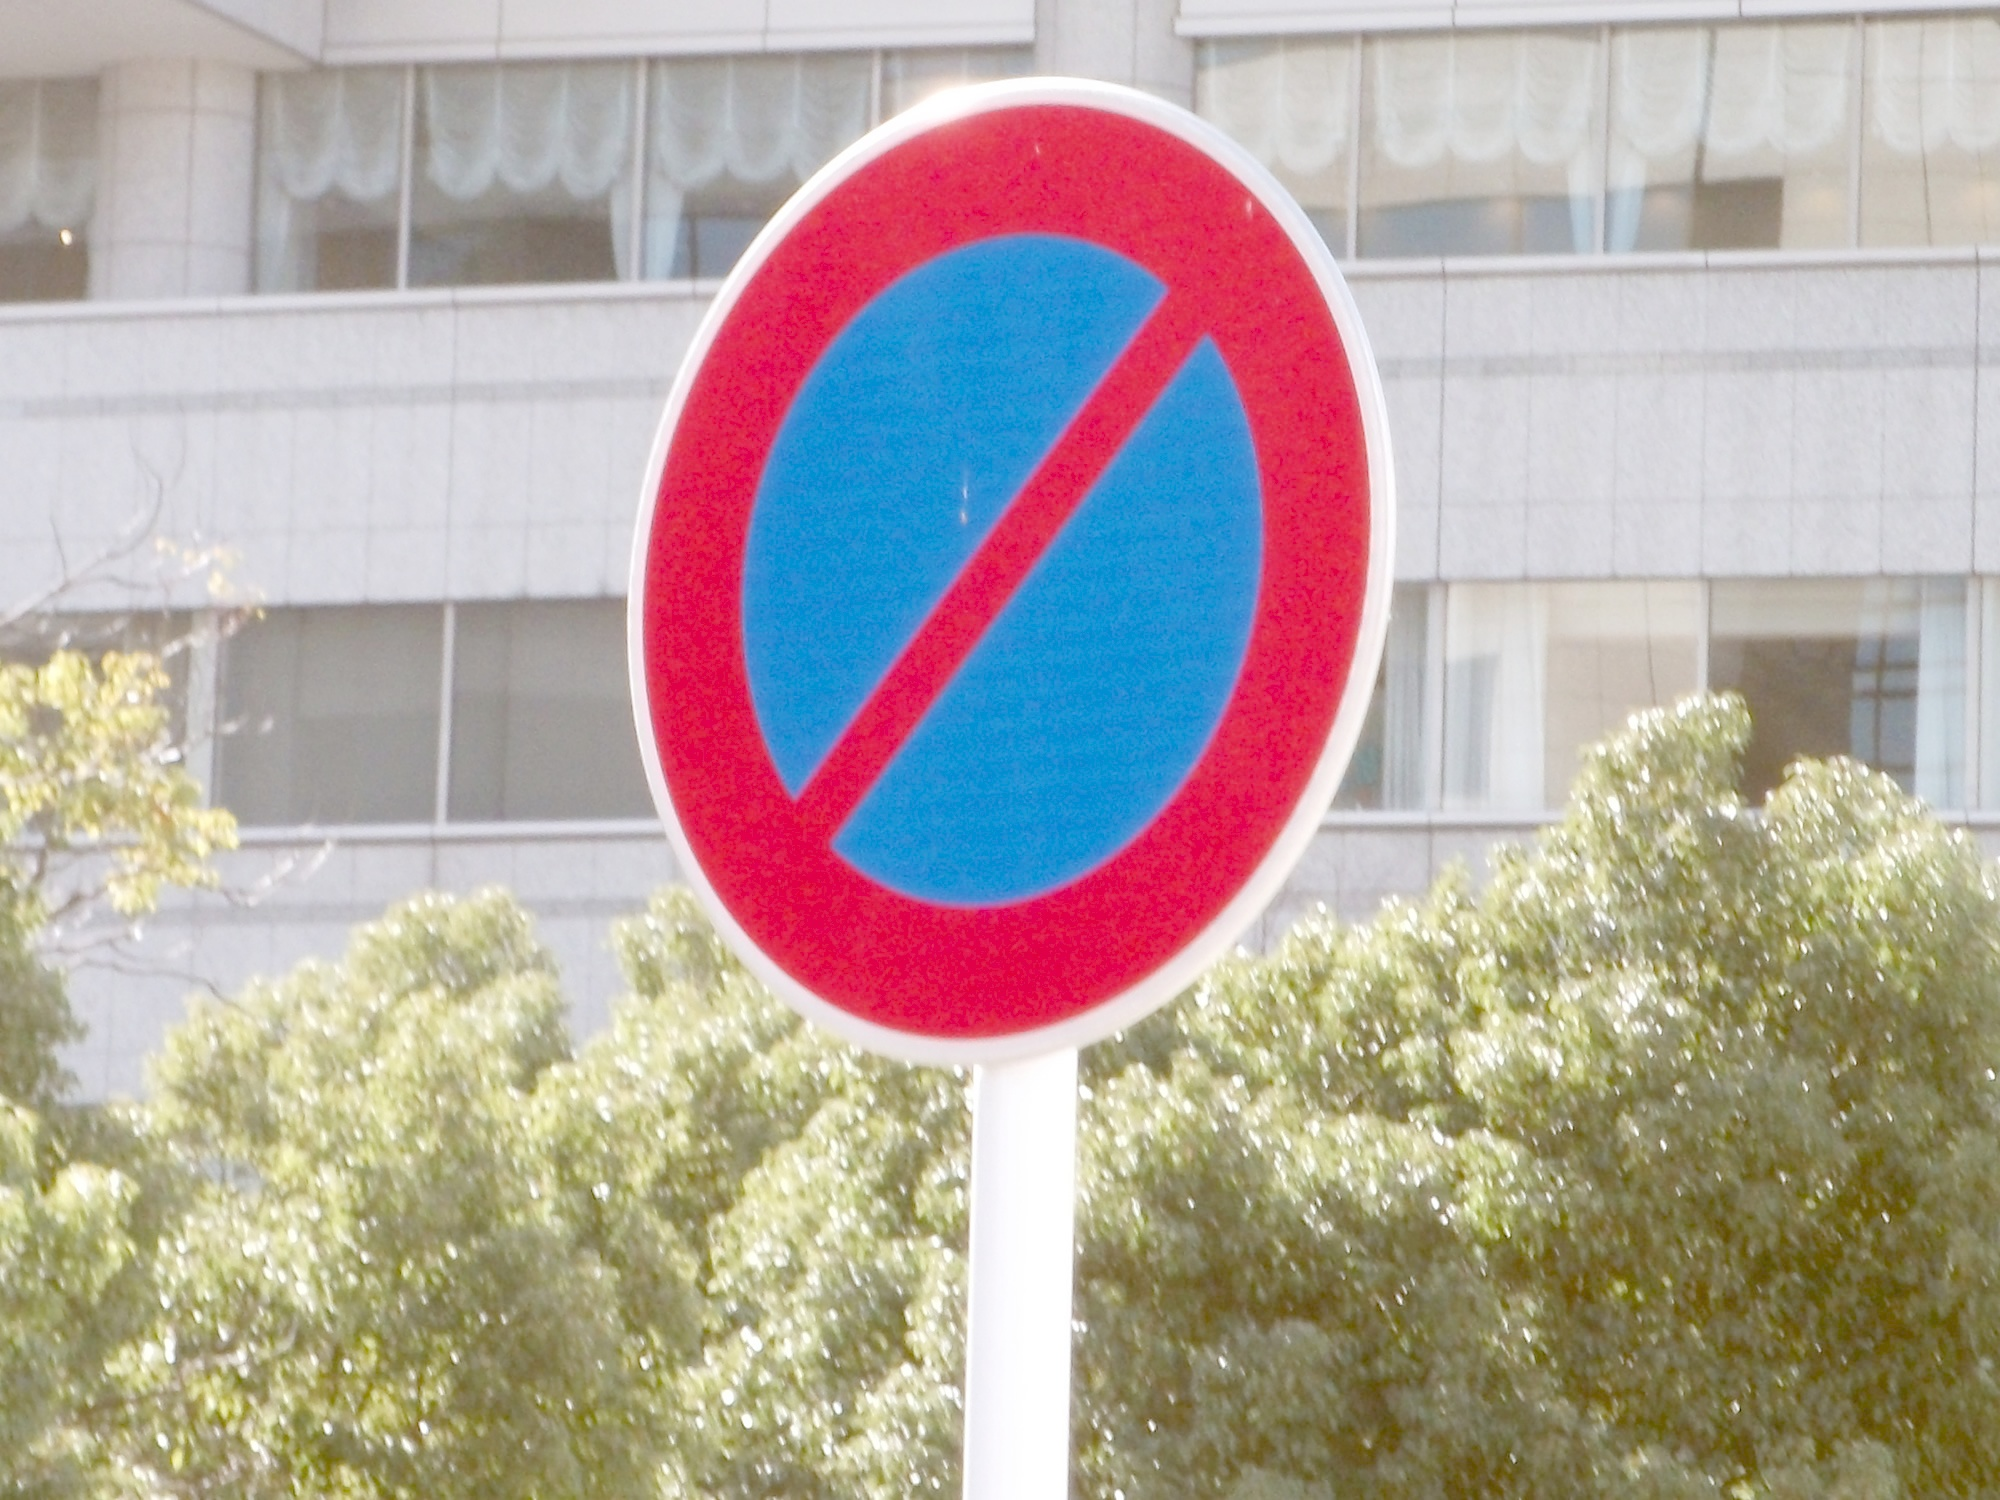Prohibition_sign: (575, 54, 1523, 1171)
